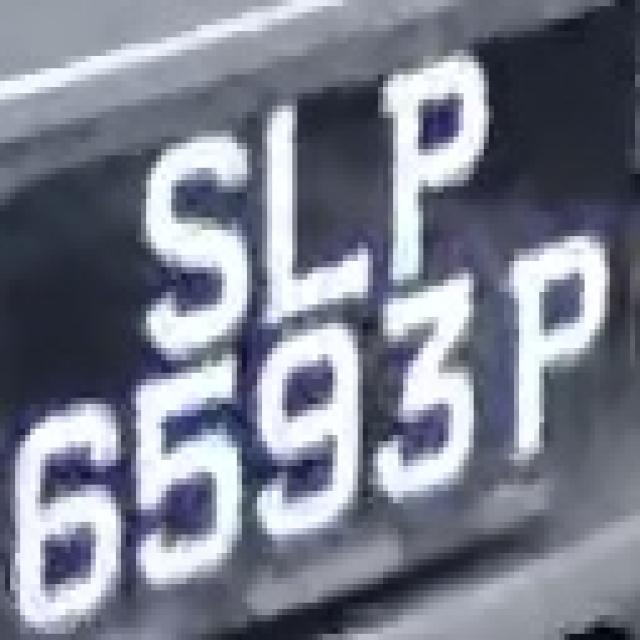3: (353, 267, 484, 522)
5: (121, 354, 257, 584)
6: (0, 4, 1, 6)
9: (247, 329, 378, 553)
L: (252, 99, 368, 317)
P: (373, 56, 514, 298), (489, 230, 620, 466)
S: (126, 124, 252, 373)
